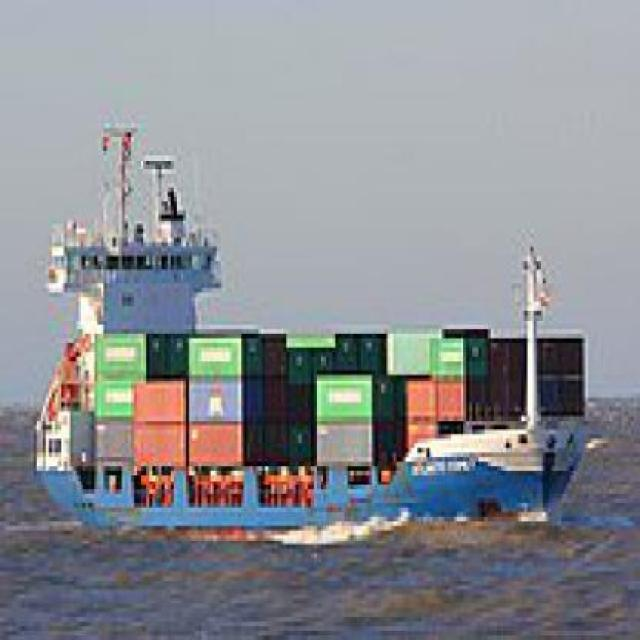container: (31, 102, 599, 549)
